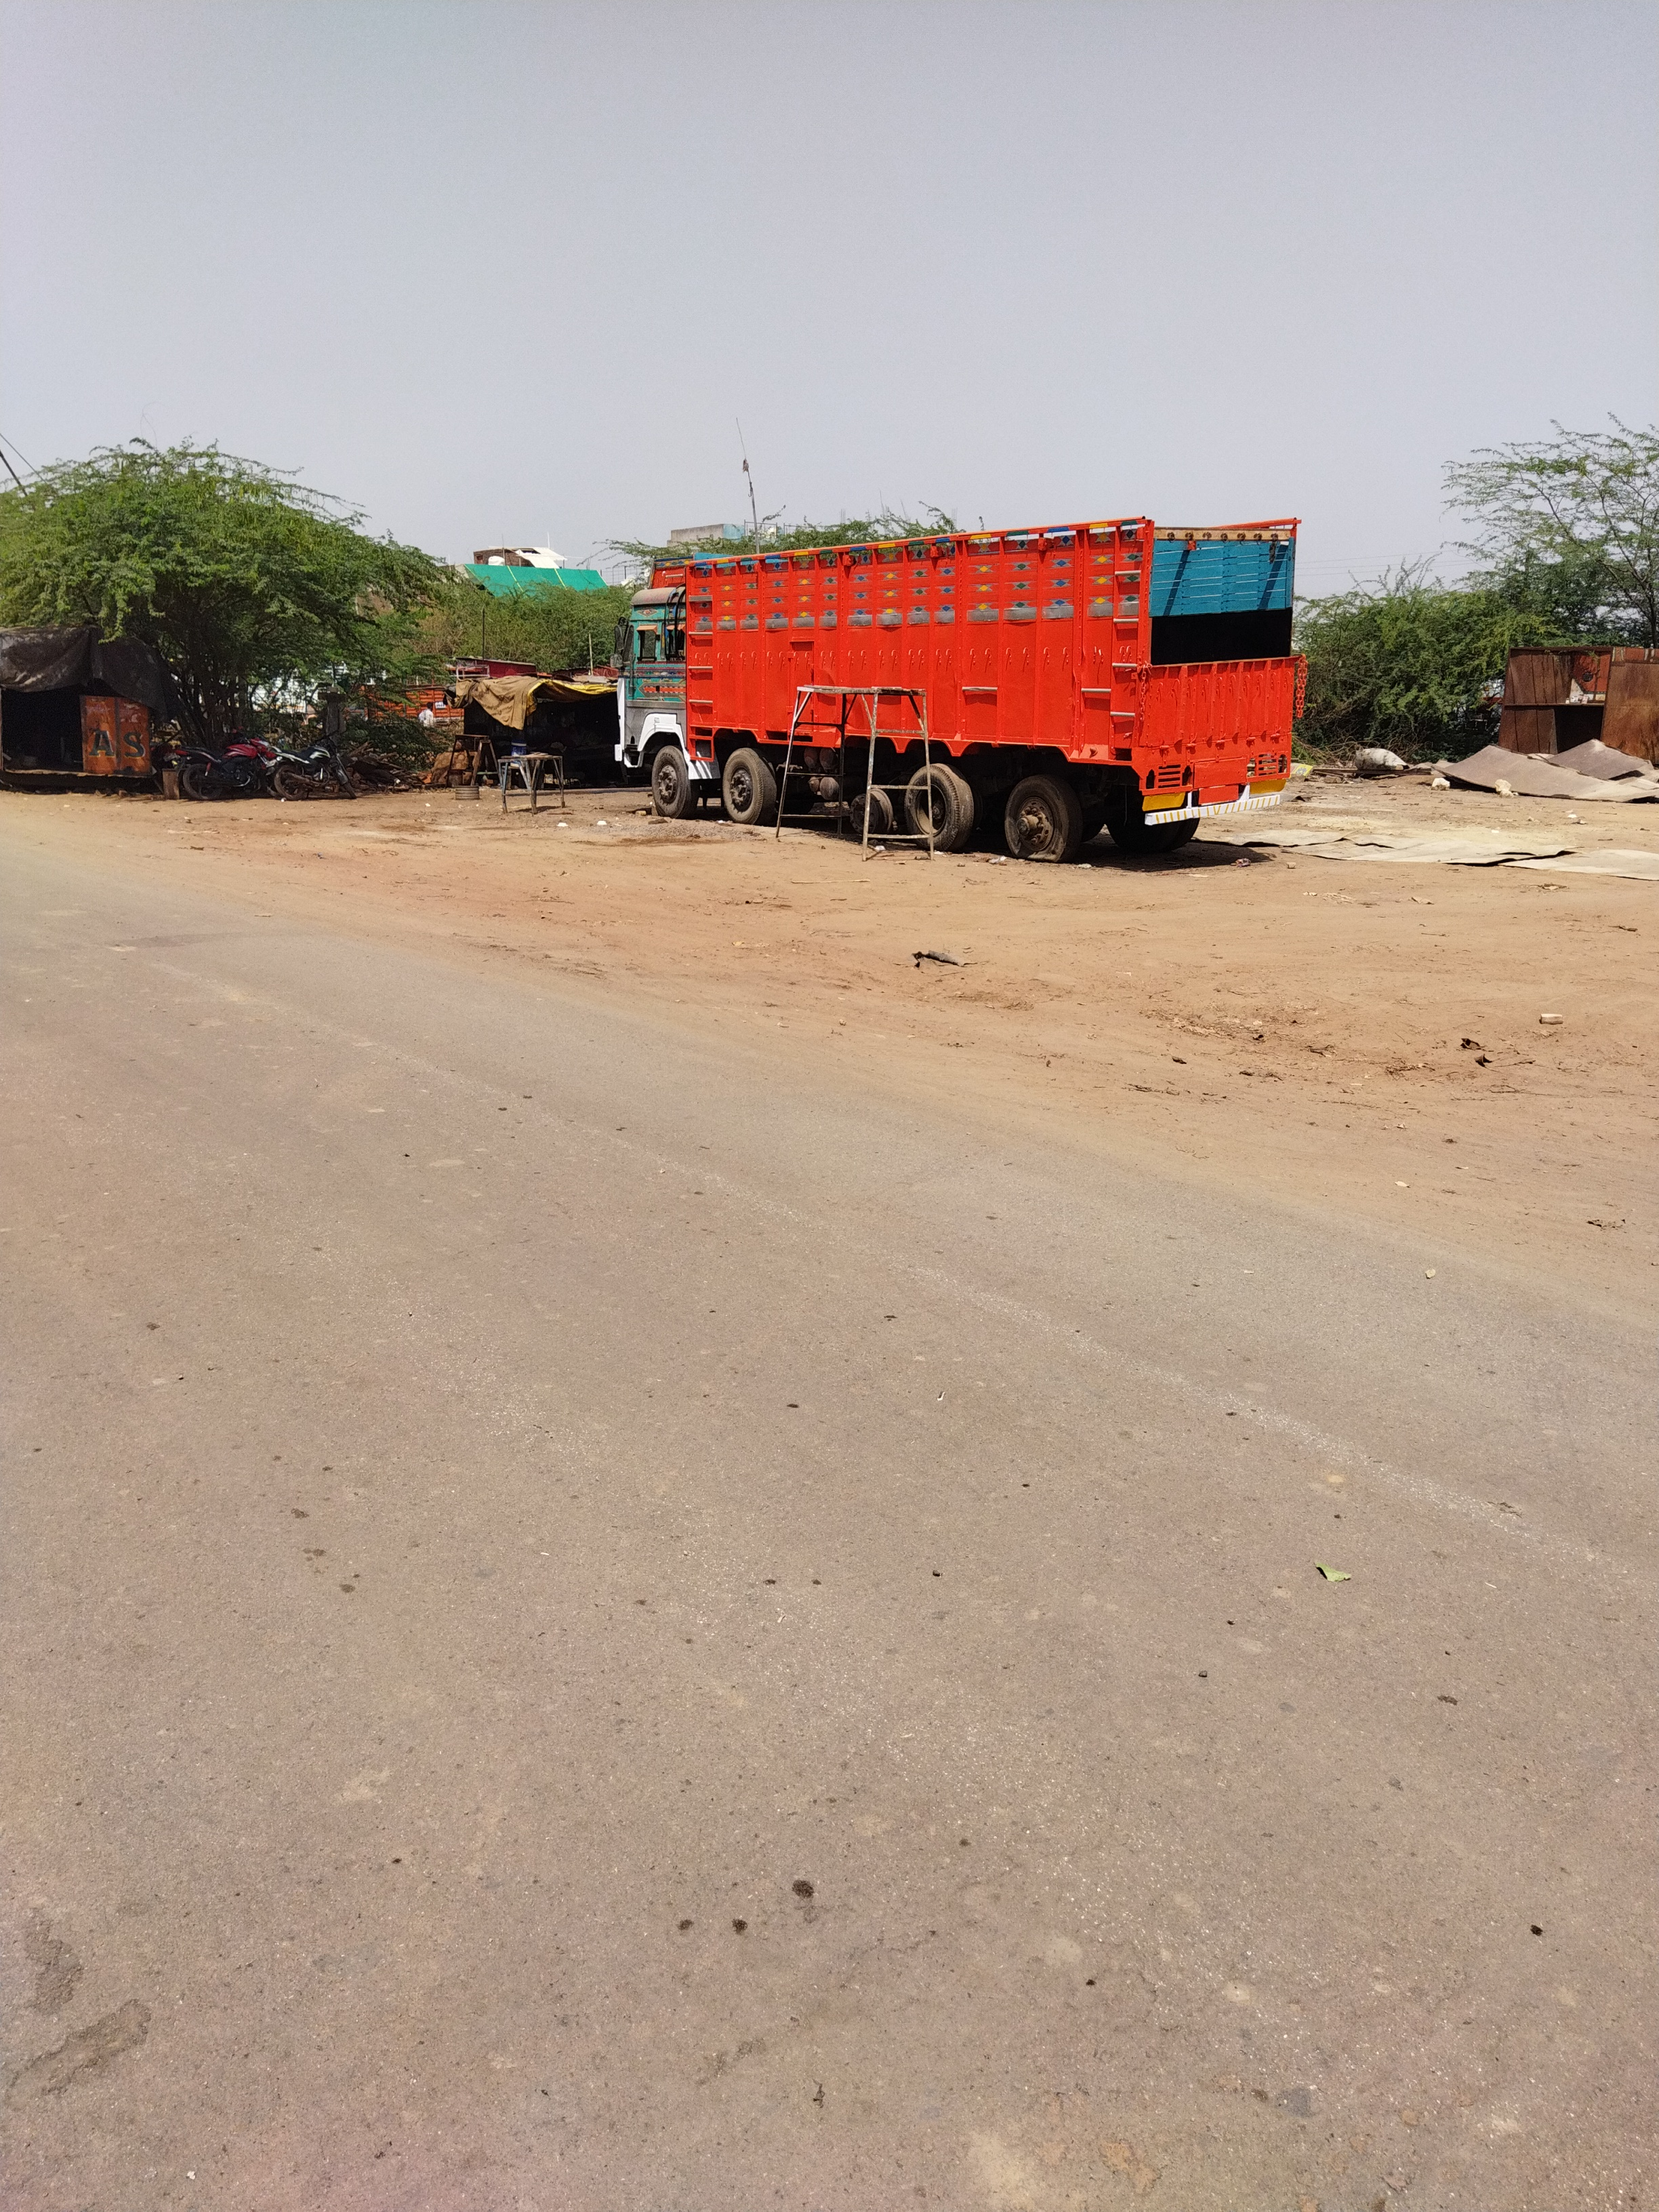truck: (610, 516, 1310, 866)
